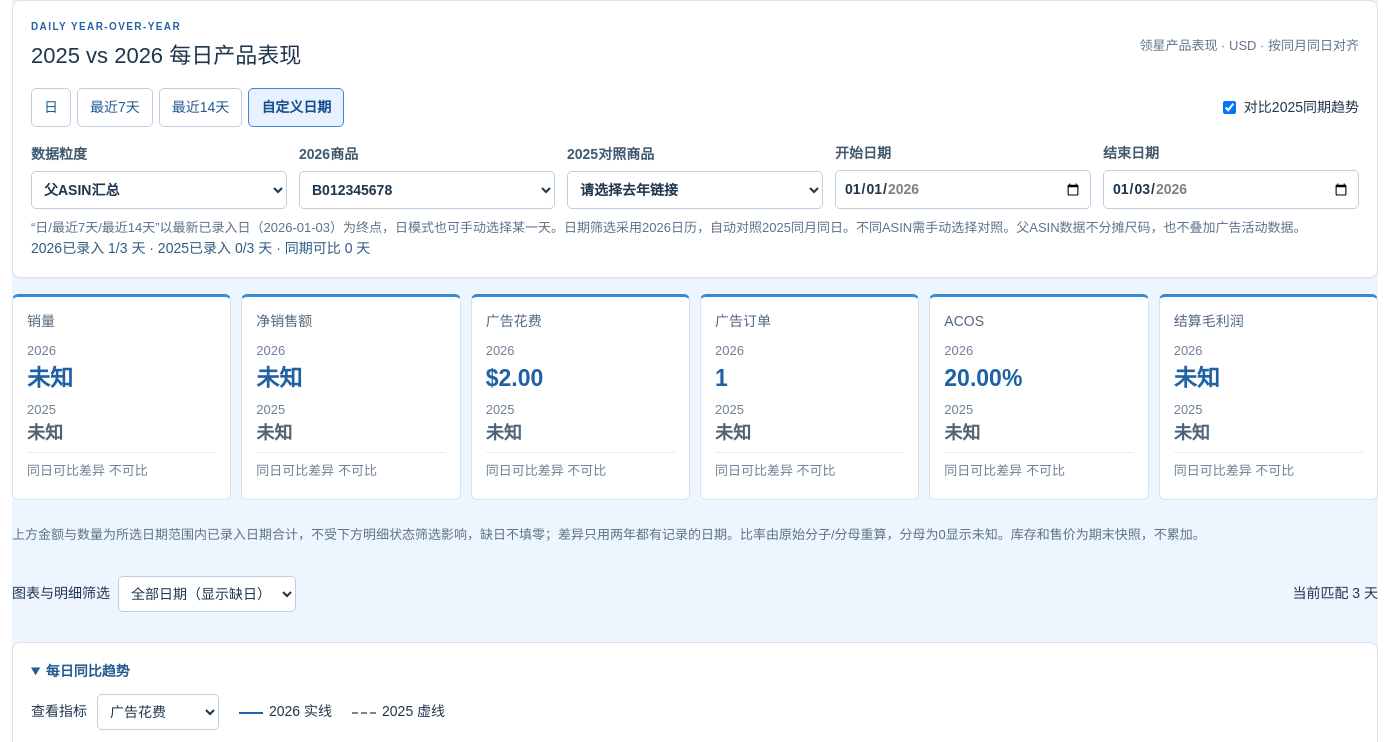
Test: daily selection remains one day and recent periods stay in the supported comparison year
Click the button "最近14天" at (201, 108), box [159,88,242,127]
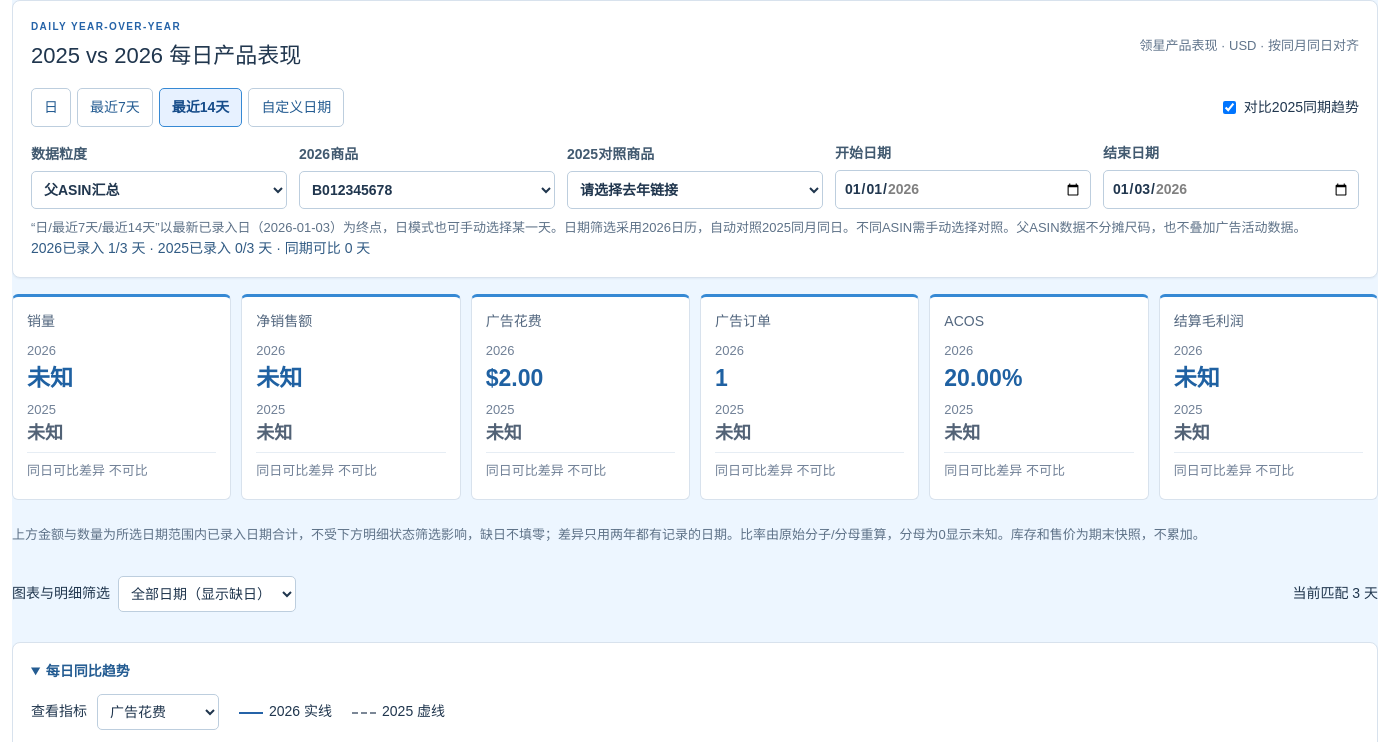
Expected: the date field named "同比开始日期" holds "2026-01-01", [835,170,1091,209]
Click the button "日" at (51, 108), box [31,88,71,127]
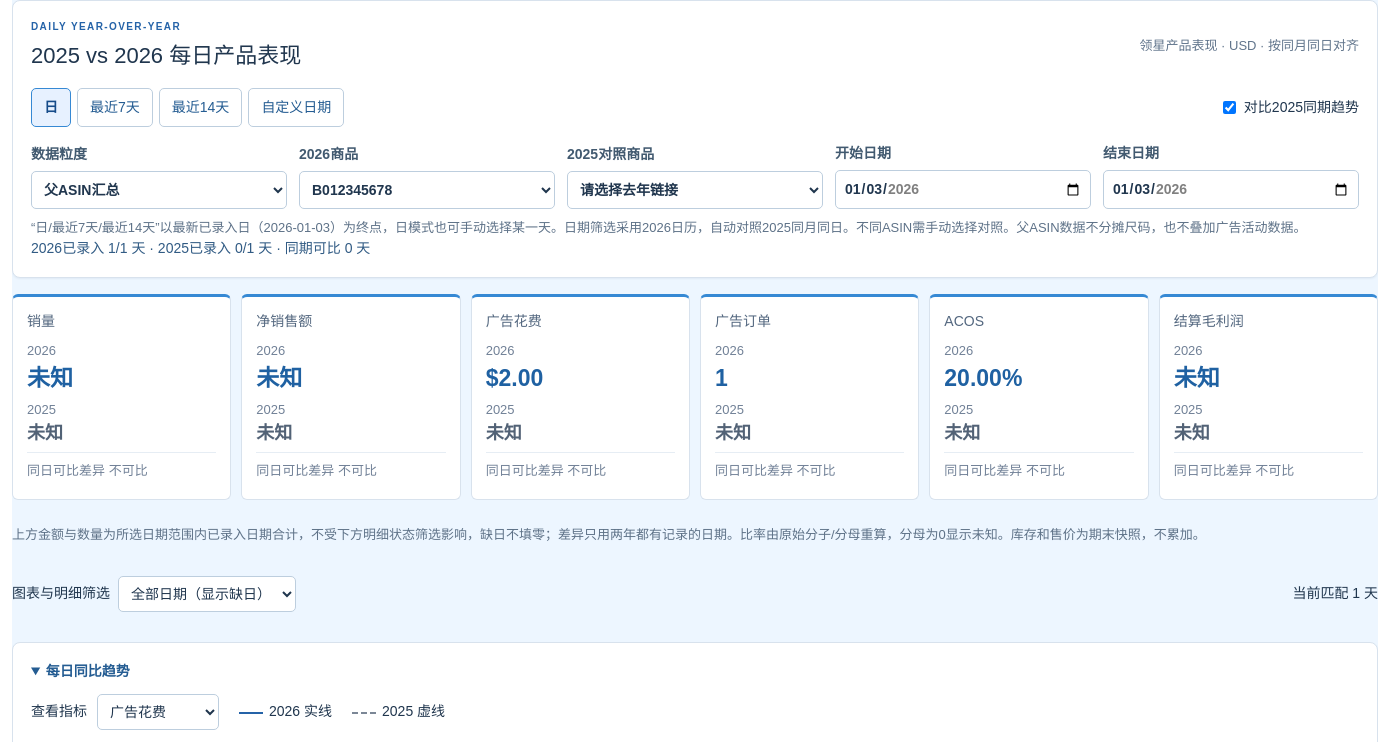
Type "2026-01-02" into the date field named "同比开始日期" at (963, 190), box [835,170,1091,209]
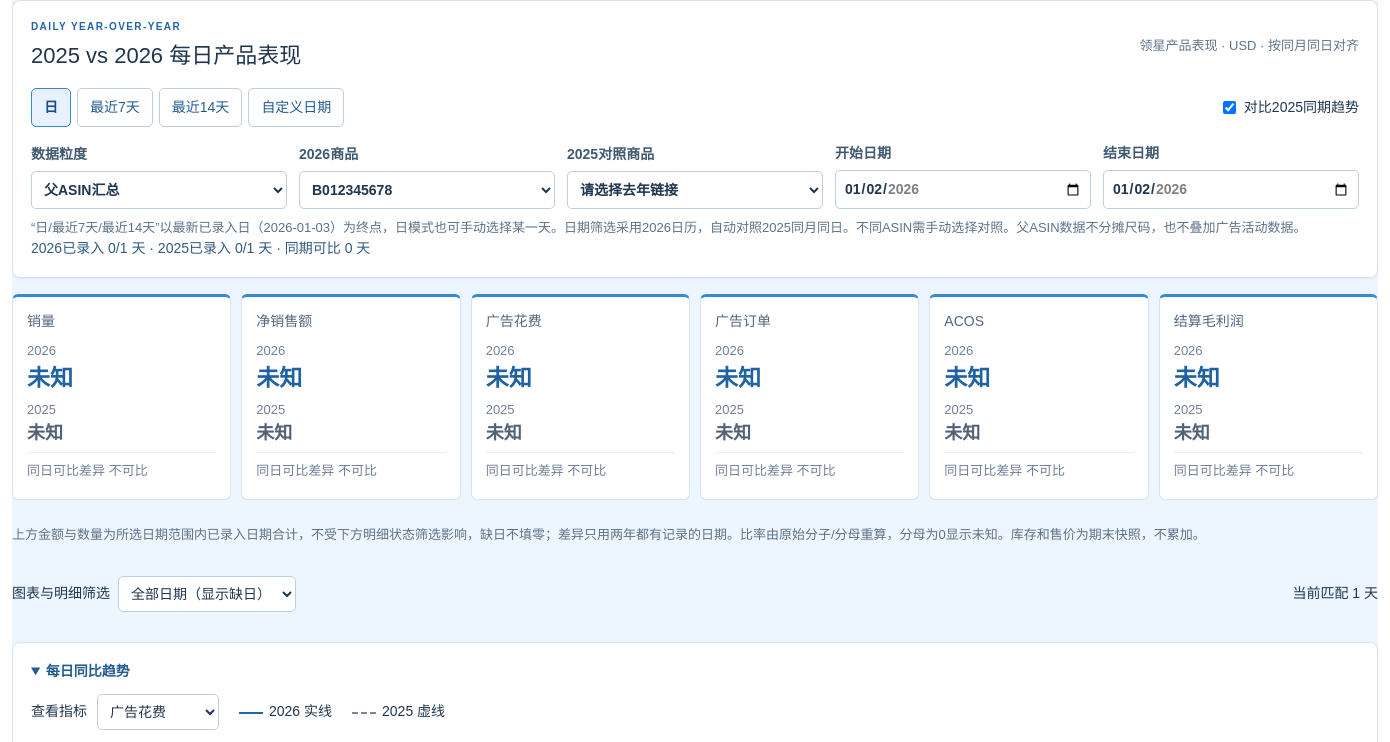
Now the date field named "同比结束日期" holds "2026-01-02", box [1103,170,1359,209]
